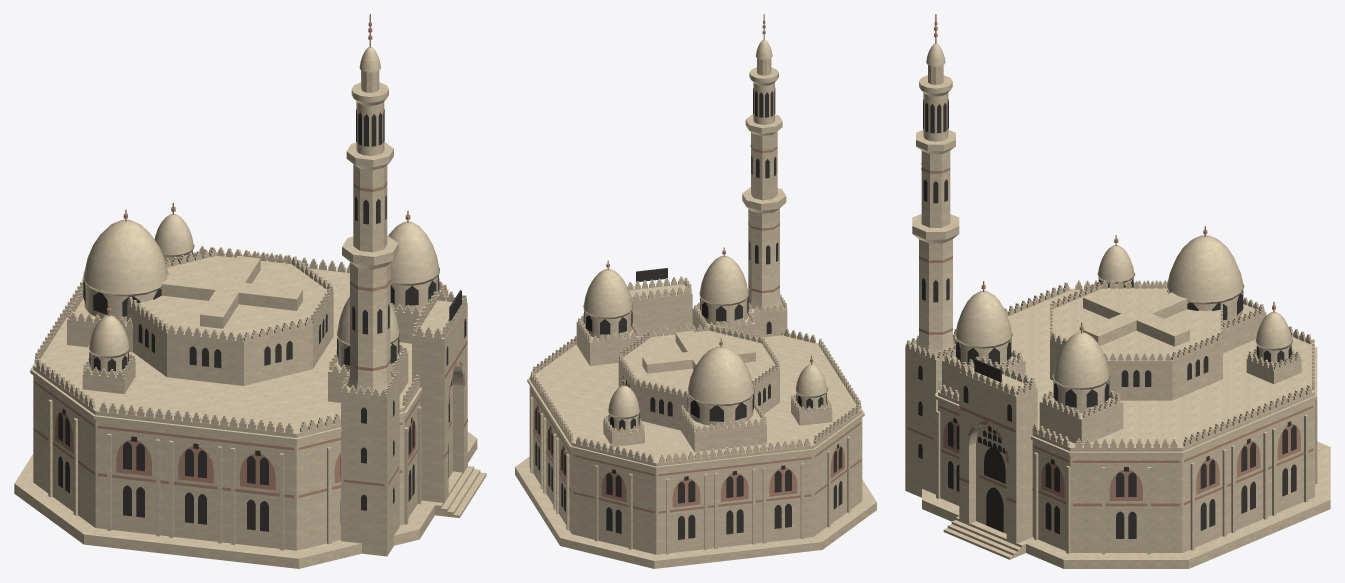
File: mursi-mosque.glb
The picture shows the model from 3 angles, left to right: view 1: azimuth 30°, elevation 25°; view 2: azimuth 150°, elevation 25°; view 3: azimuth 270°, elevation 25°; orthographic projection. The views are drawn at different scales.
Parts seen in each view (by area): view 1: MursiMosque; view 2: MursiMosque; view 3: MursiMosque.
Part boxes in pixels (box(x1,y1,x2,y2)): MursiMosque: box(14, 14, 486, 568); MursiMosque: box(515, 14, 876, 568); MursiMosque: box(905, 14, 1330, 568).
Bounding box in the file's own units: 56.73 × 73 × 59.05.
Materials: 3 (1 with a texture image).
